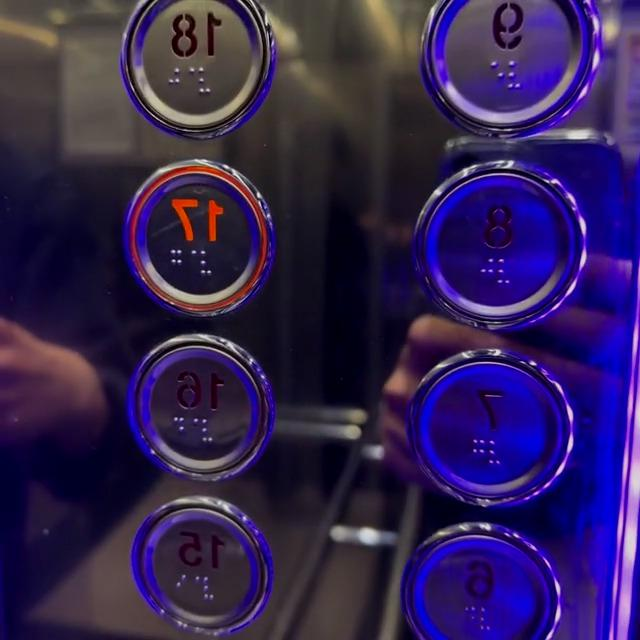button: (414, 359, 585, 520), (119, 150, 277, 307), (123, 338, 286, 480), (119, 0, 275, 132), (429, 167, 558, 324), (432, 0, 574, 132), (131, 491, 272, 623), (391, 530, 560, 640)
